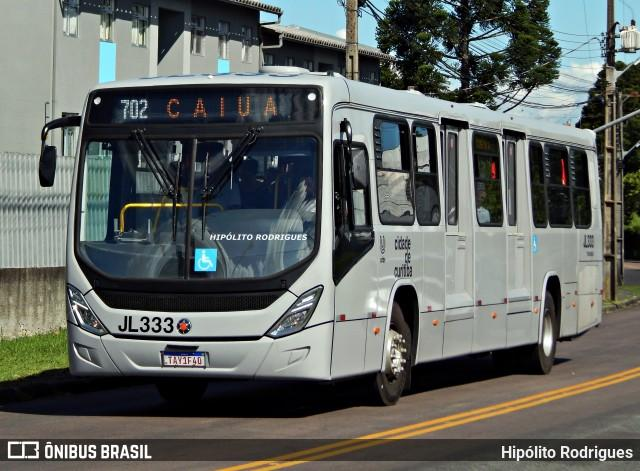CAIUA: (160, 90, 286, 122)
